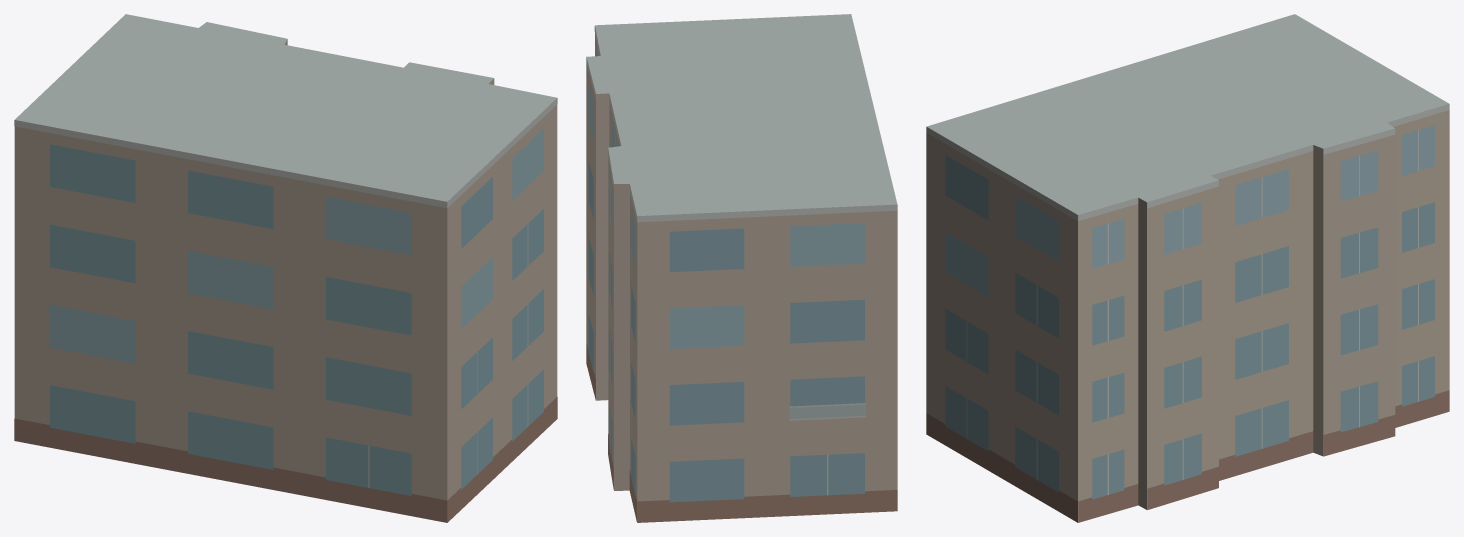
Rendered from survey-upis-32702560.glb.
The picture shows the model from 3 angles, left to right: view 1: azimuth 30°, elevation 25°; view 2: azimuth 150°, elevation 25°; view 3: azimuth 270°, elevation 25°; orthographic projection. The views are drawn at different scales.
Visible parts, largest first — view 1: survey-upis-32702560.tmp; view 2: survey-upis-32702560.tmp; view 3: survey-upis-32702560.tmp.
Part boxes in pixels (left/top/right/bottom): survey-upis-32702560.tmp: left=14, top=14, right=557, bottom=522; survey-upis-32702560.tmp: left=586, top=14, right=897, bottom=522; survey-upis-32702560.tmp: left=926, top=14, right=1449, bottom=522.
Bounding box in the file's own units: 17.1 × 12.2 × 18.8.
